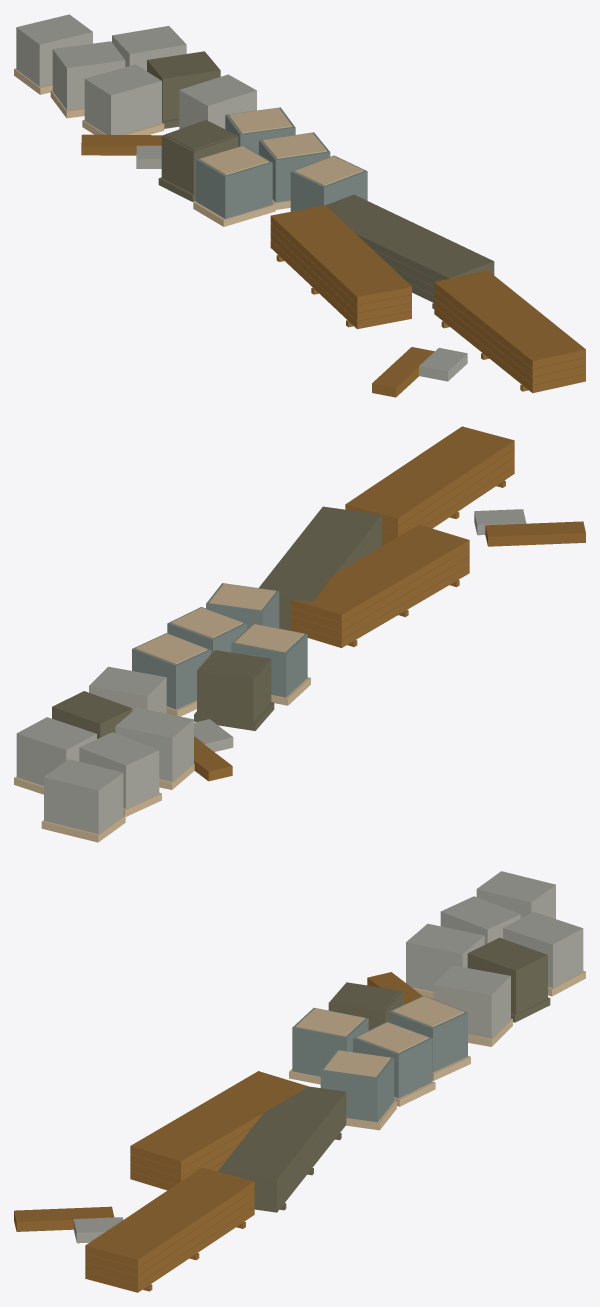
Rendered from SM_CargaMateriales_Danado_LOD1.fbx.
3 renders of one model, top to bottom at view 1: azimuth 30°, elevation 25°; view 2: azimuth 150°, elevation 25°; view 3: azimuth 330°, elevation 25°, orthographic. The views are drawn at different scales.
Visible parts, largest first — view 1: SM_carga_vagon_v13_LOD1; view 2: SM_carga_vagon_v13_LOD1; view 3: SM_carga_vagon_v13_LOD1.
Boxes of the visible parts, x1,y1,x2,y2 form: SM_carga_vagon_v13_LOD1: [14, 14, 585, 397]; SM_carga_vagon_v13_LOD1: [14, 426, 585, 842]; SM_carga_vagon_v13_LOD1: [14, 871, 585, 1292].
Bounding box in the file's own units: 4.12 × 1.04 × 17.47.
